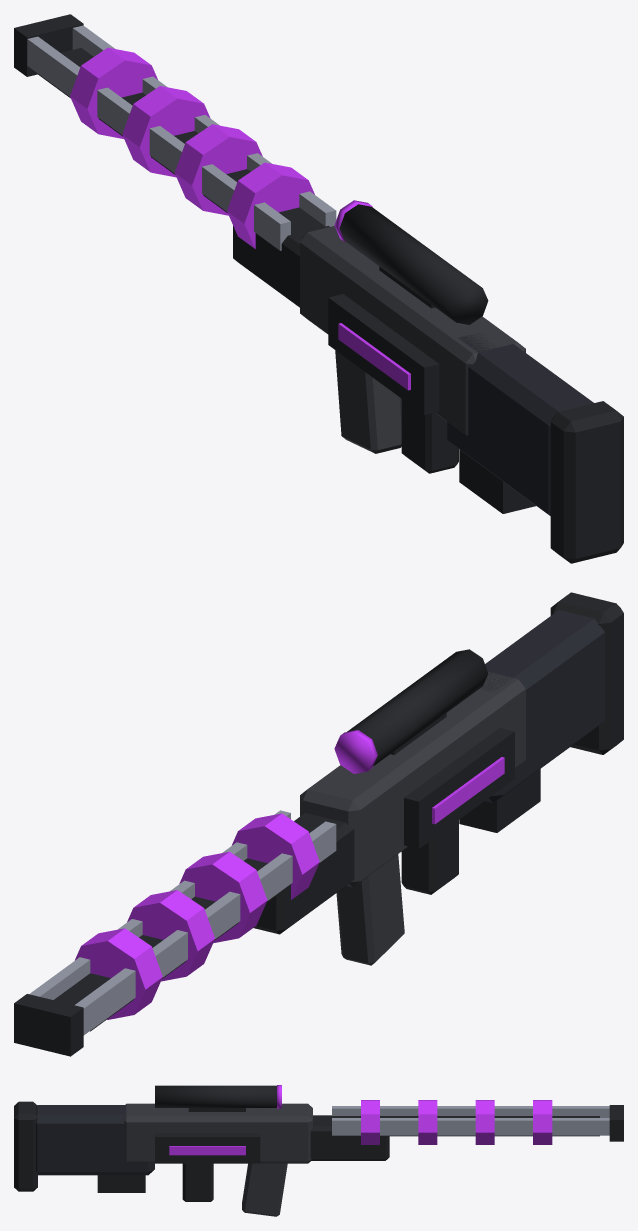
Rendered from weapon_rail.glb.
3 renders of one model, top to bottom at view 1: azimuth 30°, elevation 25°; view 2: azimuth 150°, elevation 25°; view 3: azimuth 270°, elevation 25°, orthographic. The views are drawn at different scales.
Visible parts, largest first — view 1: Gun; view 2: Gun; view 3: Gun.
Boxes of the visible parts, left/top/right/bottom form: Gun: left=14, top=14, right=623, bottom=563; Gun: left=14, top=592, right=623, bottom=1056; Gun: left=14, top=1085, right=623, bottom=1216.
Bounding box in the file's own units: 0.128 × 0.2951 × 1.28.
